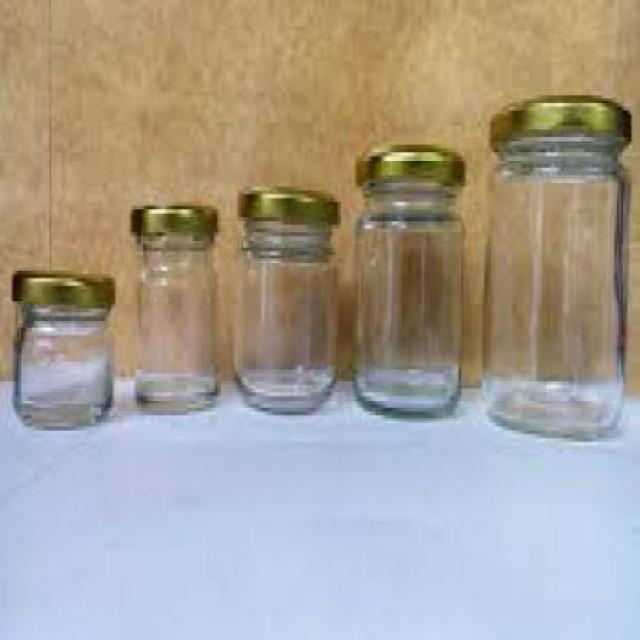kaca: (480, 137, 628, 438), (349, 183, 463, 415), (231, 214, 335, 412), (132, 232, 217, 405), (11, 302, 111, 423)
